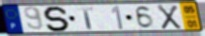1: (111, 5, 125, 31)
6: (134, 5, 155, 29)
9: (24, 6, 46, 33)
S: (43, 5, 72, 32)
T: (77, 7, 96, 30)
X: (156, 4, 183, 30)
